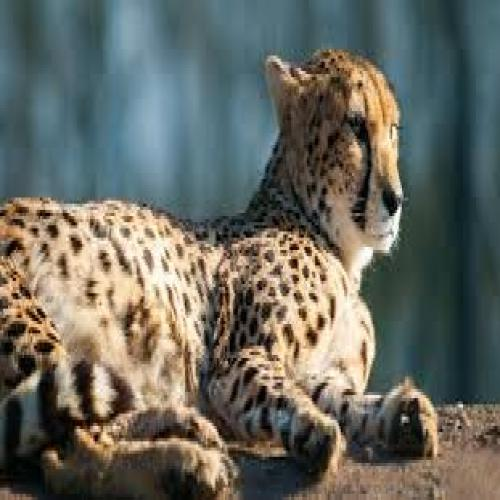cheetah-endangered: (94, 39, 407, 439)
